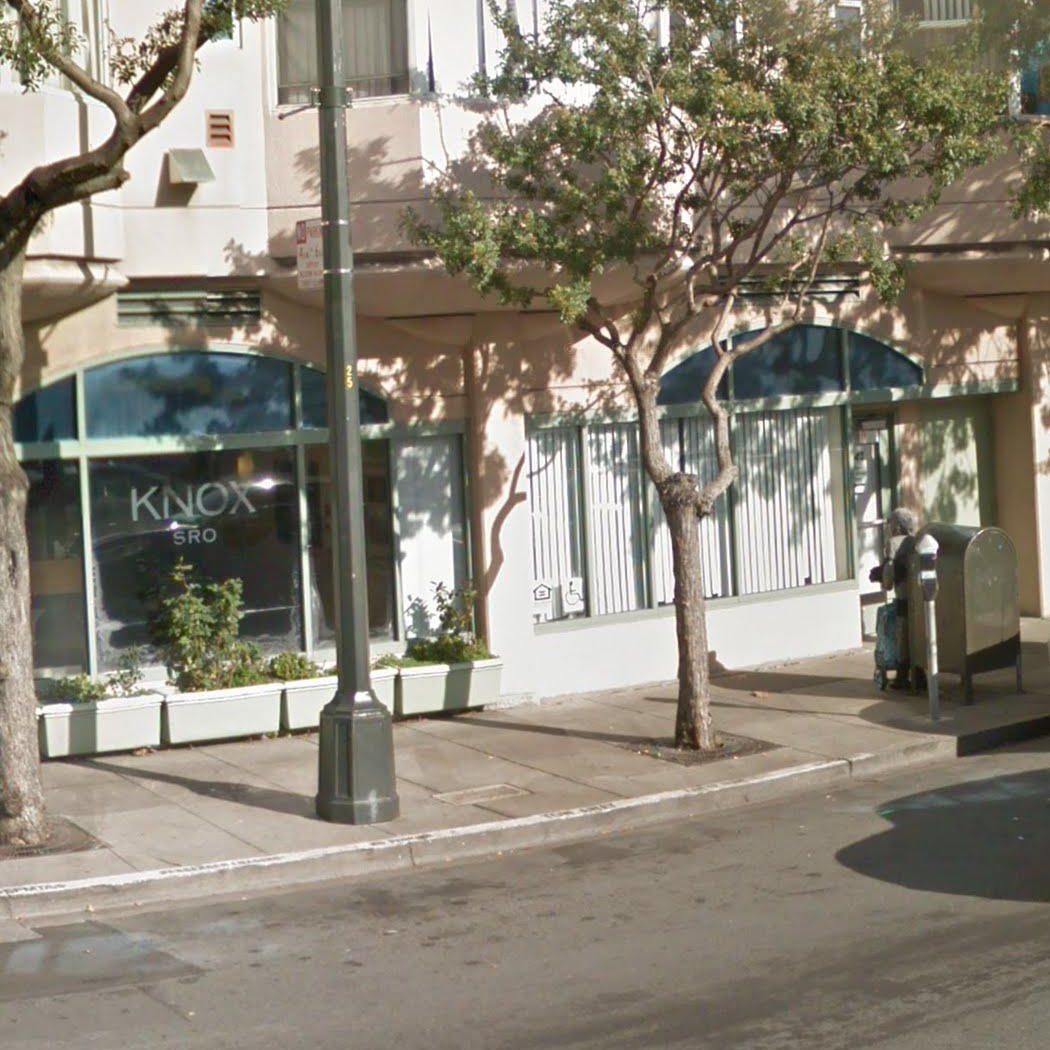No Parking: (294, 216, 325, 294)
